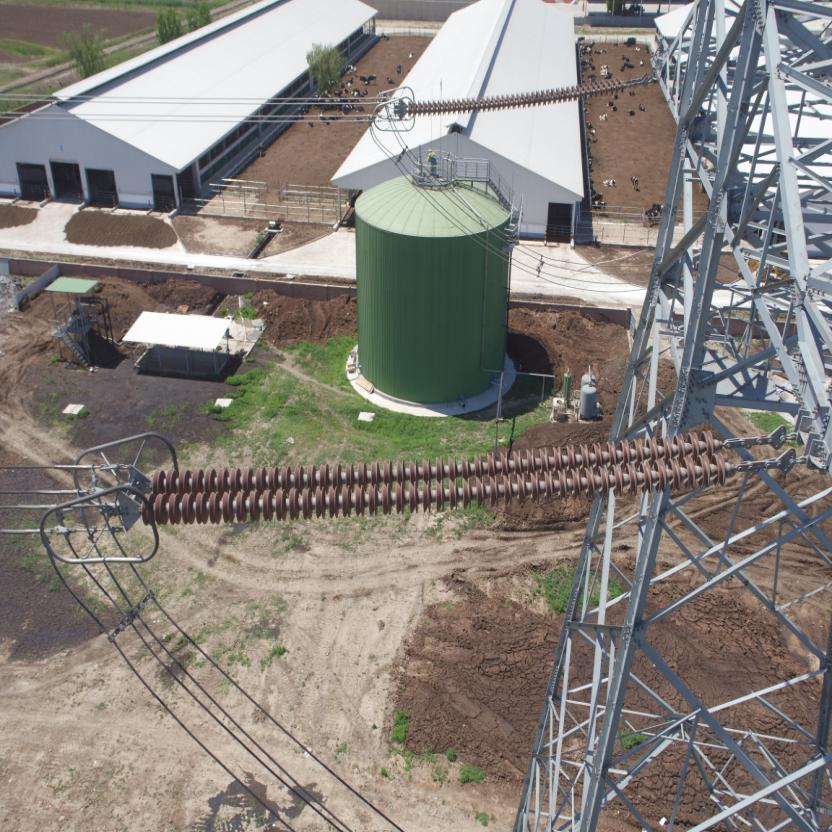insulator: (134, 427, 754, 525), (404, 75, 630, 118)
